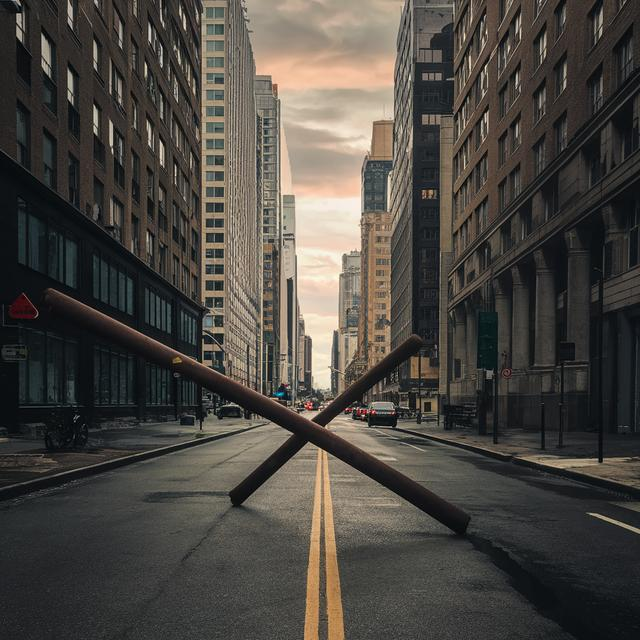Inclined Pole: (38, 281, 483, 543), (222, 332, 431, 512)
